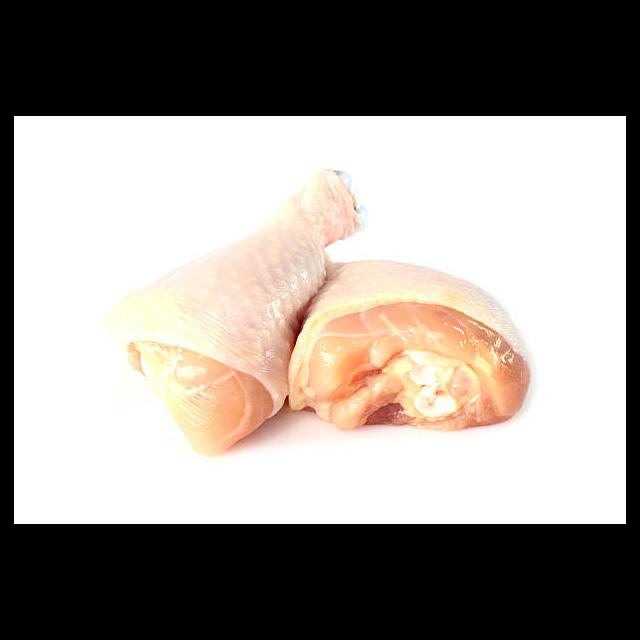chicken: (109, 168, 370, 456), (286, 257, 535, 431)
